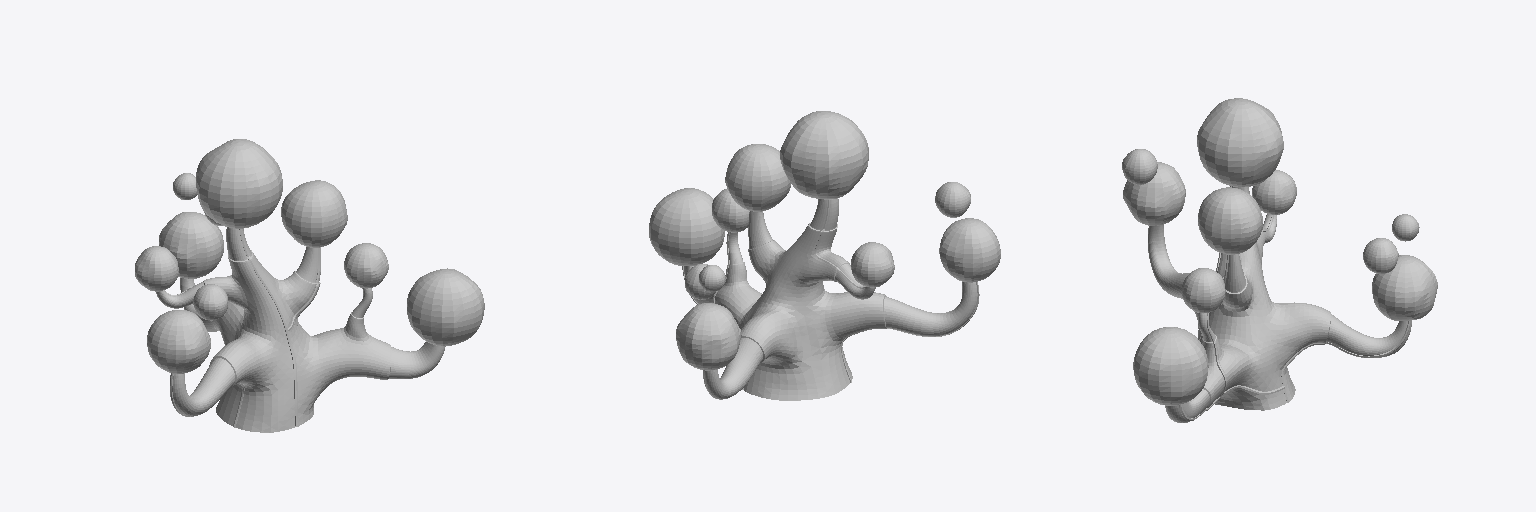
The model's file is tree-03-01.obj.
3 views of the same model, side by side, from view 1: azimuth 30°, elevation 25°; view 2: azimuth 150°, elevation 25°; view 3: azimuth 270°, elevation 25° (orthographic).
Parts seen in each view (by area): view 1: tree3 trunk3, bubble_1 bubbles tree3, bubbles tree3 bubble_4, bubbles tree3 bubble_3, bubbles tree3 bubble_5, bubbles tree3 bubble_2, bubbles tree3 bubble_8, bubbles tree3 bubble_6, tree3 vines, bubbles tree3 bubble_10, bubbles tree3 bubble_7; view 2: tree3 trunk3, bubble_1 bubbles tree3, bubbles tree3 bubble_4, bubbles tree3 bubble_2, bubbles tree3 bubble_3, bubbles tree3 bubble_5, bubbles tree3 bubble_6, bubbles tree3 bubble_8, bubbles tree3 bubble_10, tree3 vines, bubbles tree3 bubble_7, bubbles tree3 bubble_9; view 3: tree3 trunk3, bubble_1 bubbles tree3, bubbles tree3 bubble_4, bubbles tree3 bubble_3, bubbles tree3 bubble_2, bubbles tree3 bubble_5, bubbles tree3 bubble_8, bubbles tree3 bubble_6, tree3 vines, bubbles tree3 bubble_9, bubbles tree3 bubble_10, bubbles tree3 bubble_7.
Part boxes in pixels (left/top/right/bottom): tree3 trunk3: left=156, top=227, right=445, bottom=432; bubble_1 bubbles tree3: left=196, top=139, right=282, bottom=228; bubbles tree3 bubble_4: left=407, top=268, right=484, bottom=345; bubbles tree3 bubble_3: left=281, top=180, right=347, bottom=247; bubbles tree3 bubble_5: left=147, top=310, right=210, bottom=373; bubbles tree3 bubble_2: left=159, top=212, right=223, bottom=278; bubbles tree3 bubble_8: left=344, top=243, right=388, bottom=288; bubbles tree3 bubble_6: left=135, top=246, right=178, bottom=291; tree3 vines: left=166, top=229, right=320, bottom=427; bubbles tree3 bubble_10: left=193, top=284, right=227, bottom=320; bubbles tree3 bubble_7: left=173, top=173, right=197, bottom=199; tree3 trunk3: left=684, top=198, right=977, bottom=400; bubble_1 bubbles tree3: left=780, top=111, right=868, bottom=199; bubbles tree3 bubble_4: left=649, top=188, right=724, bottom=265; bubbles tree3 bubble_2: left=676, top=303, right=741, bottom=370; bubbles tree3 bubble_3: left=725, top=144, right=790, bottom=211; bubbles tree3 bubble_5: left=939, top=218, right=1000, bottom=282; bubbles tree3 bubble_6: left=851, top=242, right=894, bottom=287; bubbles tree3 bubble_8: left=712, top=189, right=749, bottom=232; bubbles tree3 bubble_10: left=935, top=182, right=970, bottom=217; tree3 vines: left=682, top=199, right=979, bottom=389; bubbles tree3 bubble_7: left=699, top=265, right=725, bottom=291; bubbles tree3 bubble_9: left=685, top=264, right=715, bottom=299; tree3 trunk3: left=1148, top=186, right=1411, bottom=422; bubble_1 bubbles tree3: left=1197, top=98, right=1283, bottom=187; bubbles tree3 bubble_4: left=1133, top=327, right=1208, bottom=405; bubbles tree3 bubble_3: left=1198, top=187, right=1262, bottom=254; bubbles tree3 bubble_2: left=1372, top=255, right=1437, bottom=320; bubbles tree3 bubble_5: left=1123, top=162, right=1185, bottom=225; bubbles tree3 bubble_8: left=1181, top=268, right=1225, bottom=312; bubbles tree3 bubble_6: left=1252, top=170, right=1296, bottom=214; tree3 vines: left=1179, top=186, right=1410, bottom=420; bubbles tree3 bubble_9: left=1363, top=238, right=1398, bottom=273; bubbles tree3 bubble_10: left=1122, top=149, right=1157, bottom=184; bubbles tree3 bubble_7: left=1392, top=214, right=1419, bottom=241.
Bounding box in the file's own units: 3.1 × 2.42 × 2.54.